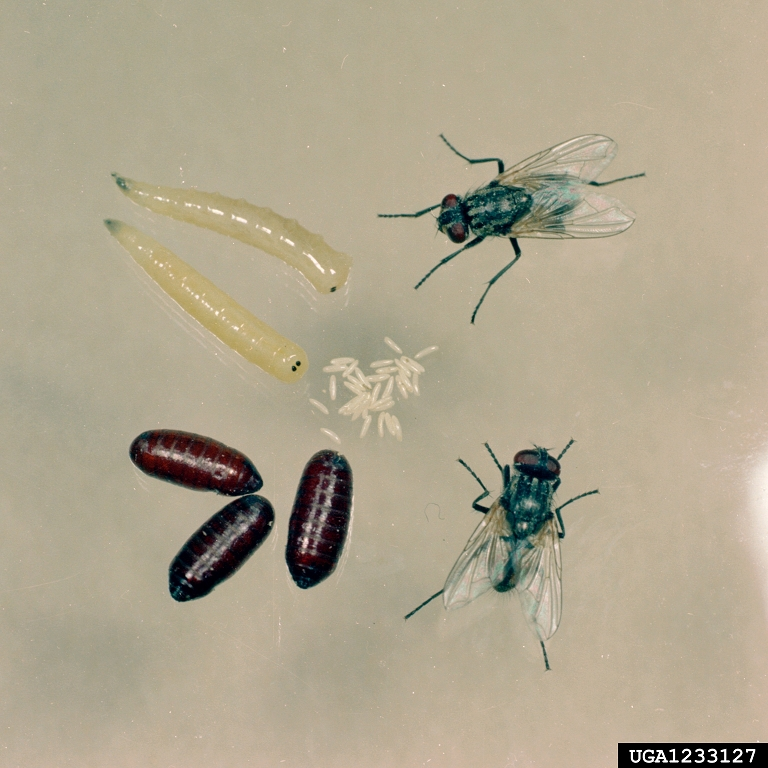fly: (374, 126, 656, 331), (401, 433, 612, 683)
